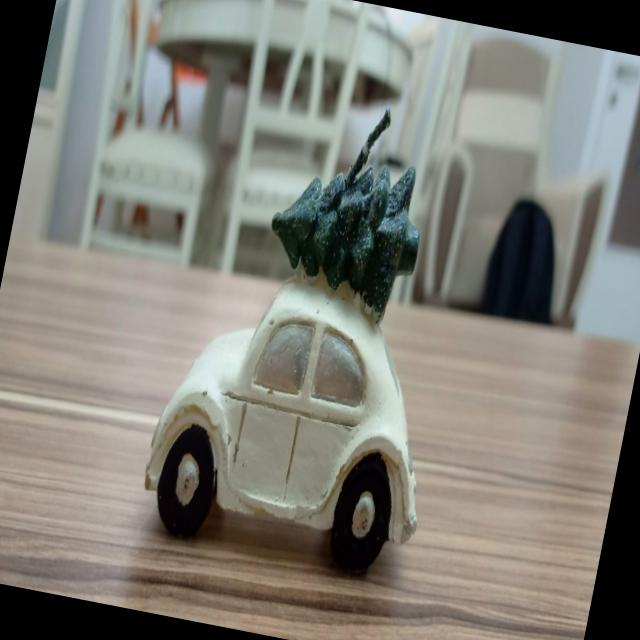car: (116, 258, 454, 574)
